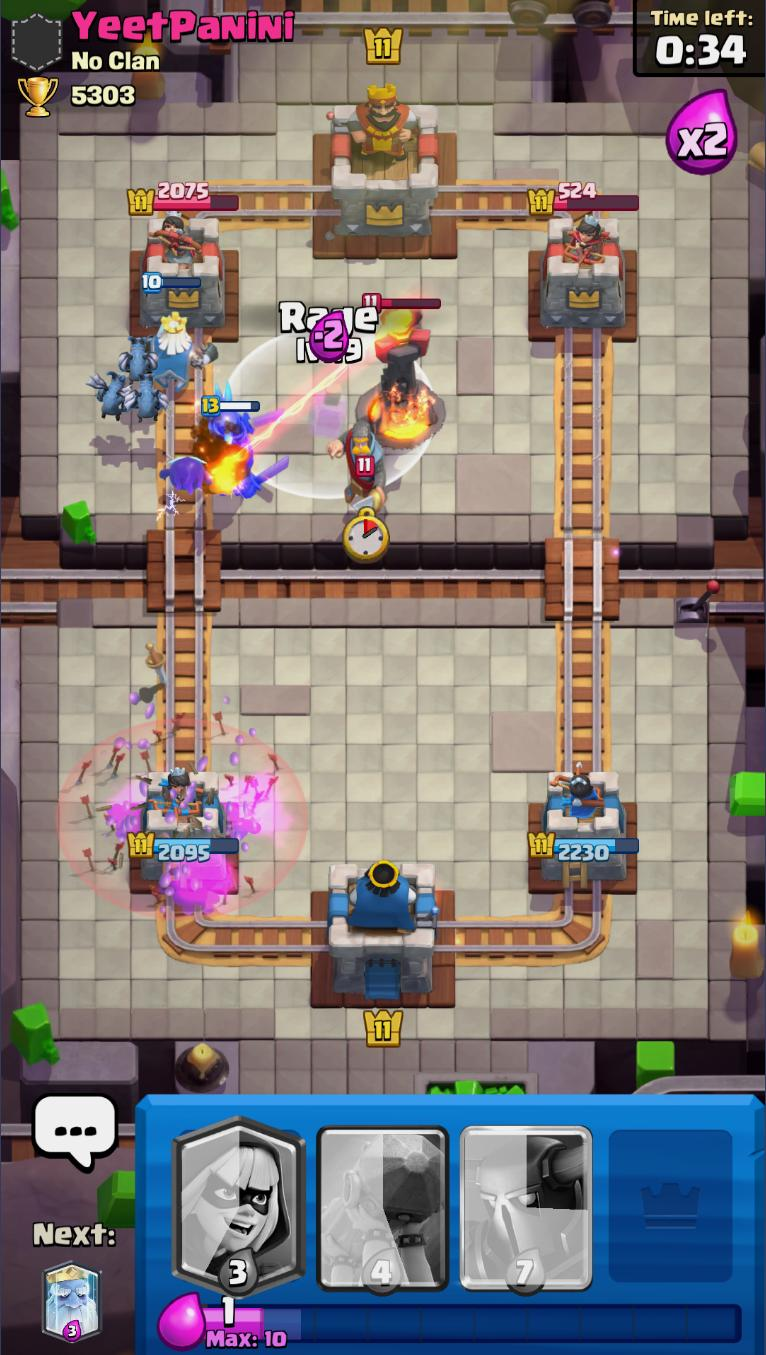Arrows: (59, 715, 308, 917)
BanditDeck: (167, 1095, 310, 1296)
Elixir: (203, 1295, 744, 1350)
Empty: (598, 1094, 742, 1296), (311, 1095, 455, 1296)
EnemyTower: (533, 214, 631, 331), (136, 214, 227, 331)
KingTower: (326, 80, 443, 243)
Knight: (328, 418, 387, 519)
MyElectroSpirit: (160, 456, 212, 493)
MyKingTower: (326, 858, 440, 1000)
MyMinion: (122, 373, 173, 424), (87, 368, 133, 423), (117, 333, 161, 380)
MyPekka: (355, 292, 445, 452), (198, 382, 290, 500)
MyPrincessTower: (126, 768, 240, 886), (528, 770, 640, 886)
MyPrincessTowerHP: (126, 830, 239, 862), (527, 832, 640, 862)
MyRoyaleGhost: (135, 272, 218, 390)
PekkaDeck: (456, 1094, 598, 1295)
PrincessTower: (150, 214, 205, 270), (552, 213, 607, 267)
RoyaleGhostNext: (41, 1264, 103, 1343)
TowerPrincessHP: (527, 182, 640, 216), (127, 182, 240, 216)
